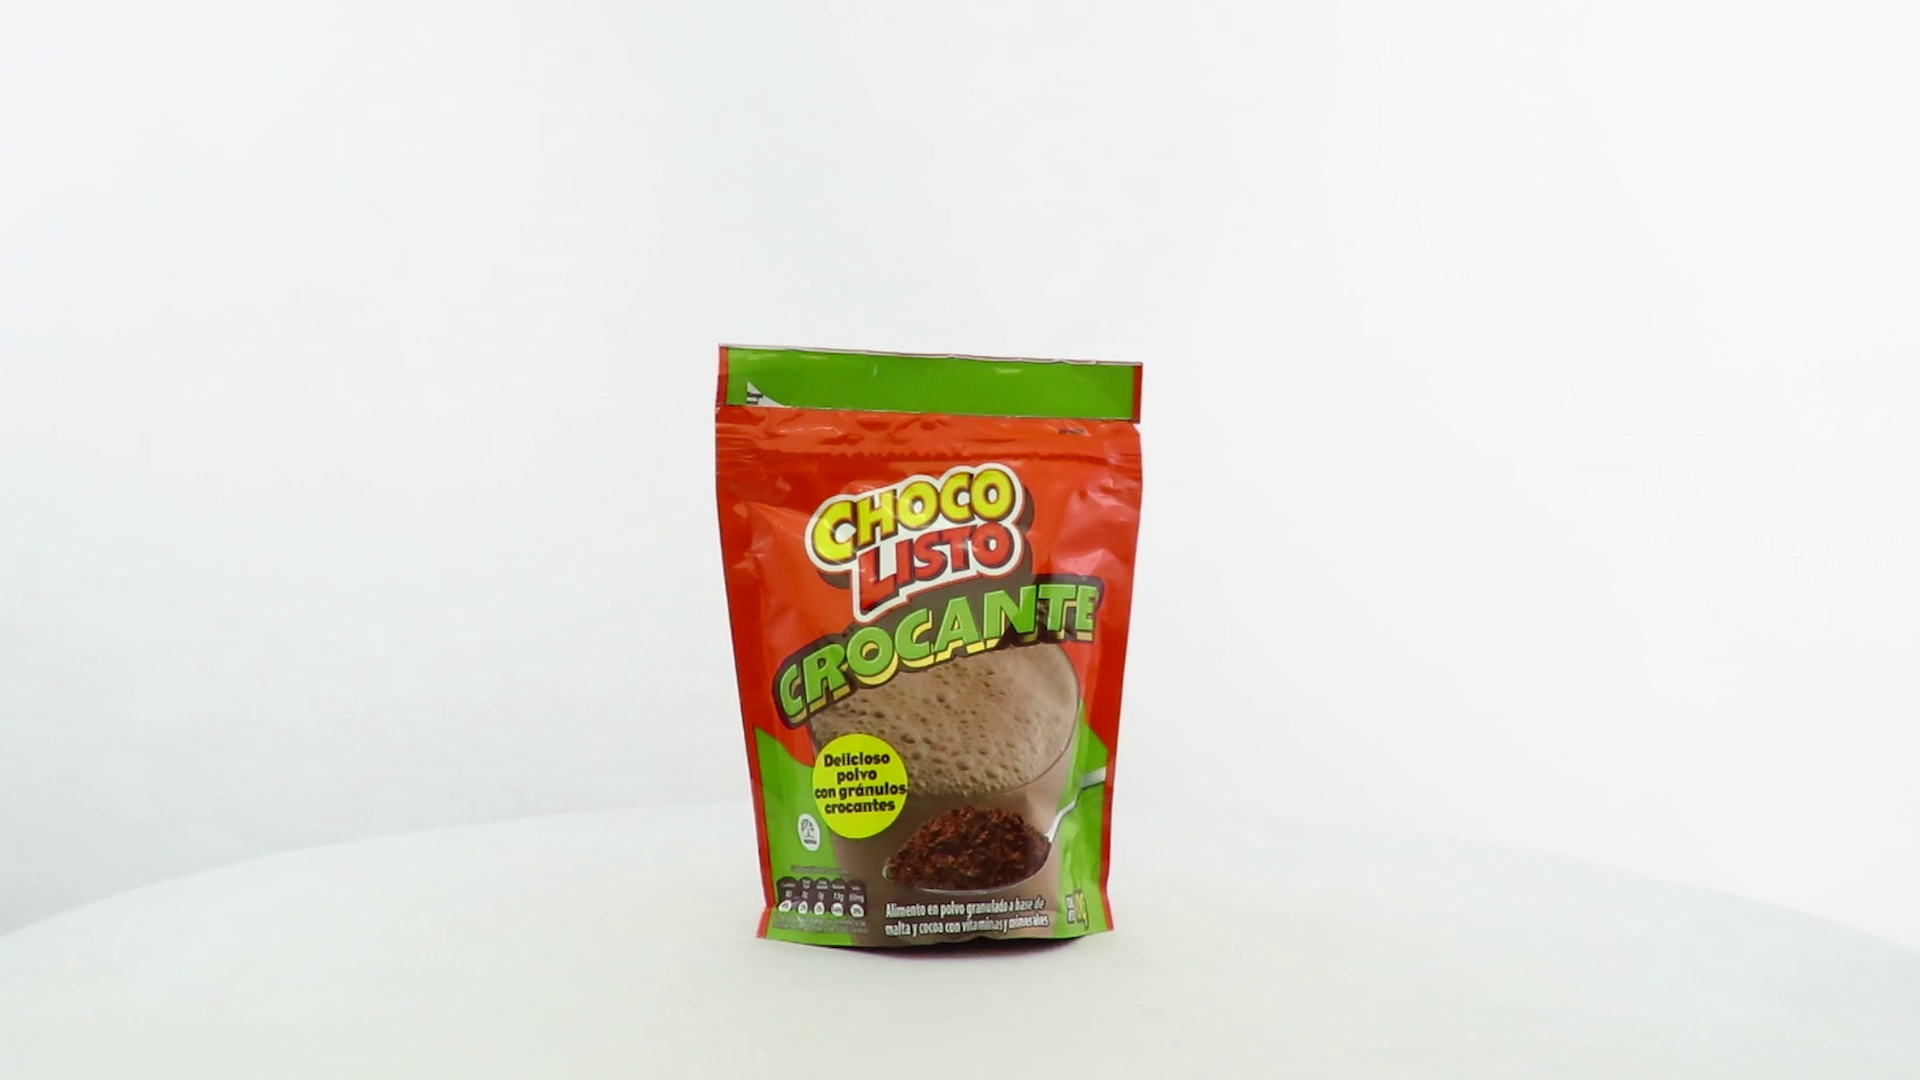COL0170102DYP10000: (709, 338, 1149, 967)
